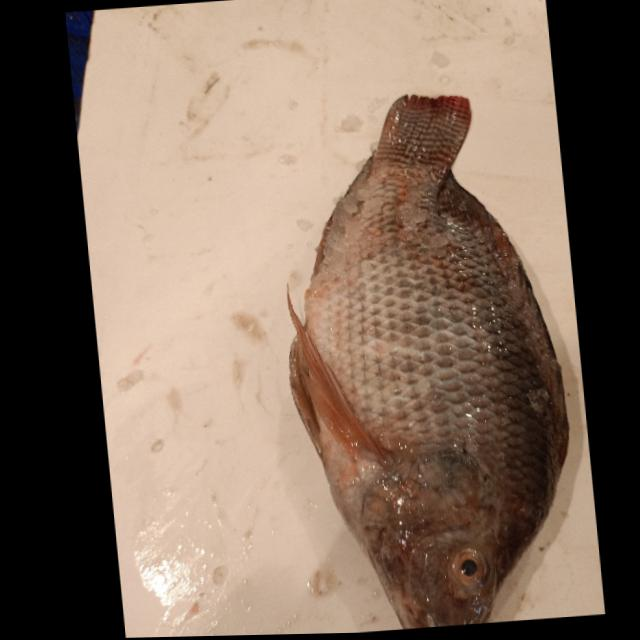Tilapia: (260, 82, 588, 634)
